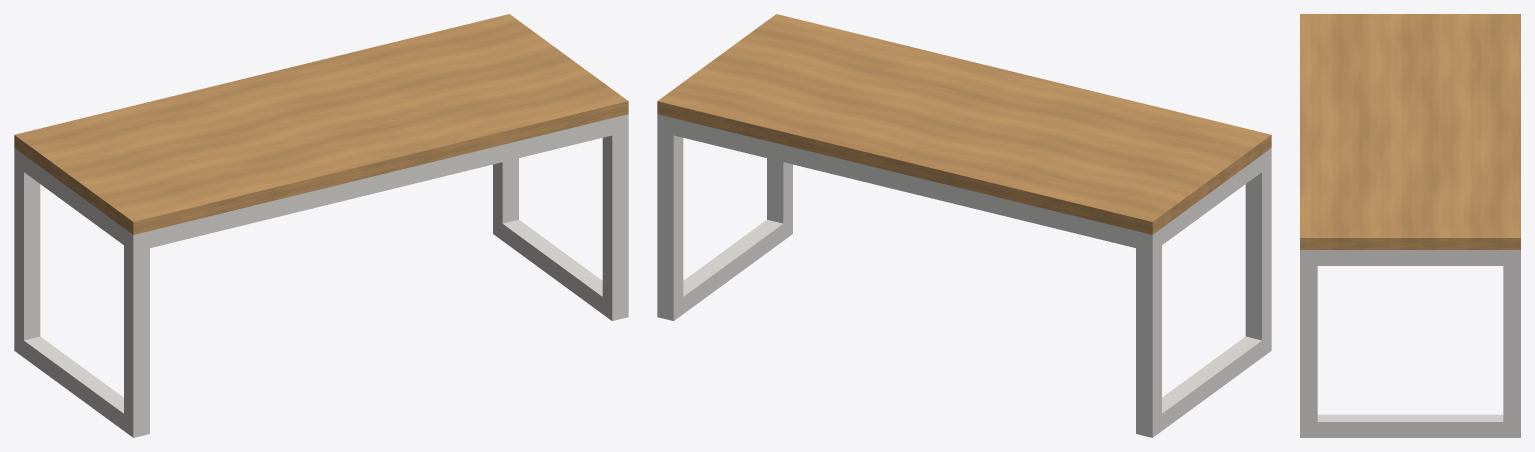
File: mesa-living-nord-miel-blanco-4cm.glb
3 views of the same model, side by side, from view 1: azimuth 30°, elevation 25°; view 2: azimuth 150°, elevation 25°; view 3: azimuth 270°, elevation 25° (orthographic). The views are drawn at different scales.
Visible parts, largest first — view 1: Tapa de madera maciza 120 x 50 cm, Pata recta de hierro 4 x 4 cm (×4), Larguero longitudinal superior recto, Travesaño inferior recto (×2), Travesaño superior recto; view 2: Tapa de madera maciza 120 x 50 cm, Pata recta de hierro 4 x 4 cm (×4), Larguero longitudinal superior recto, Travesaño inferior recto (×2), Travesaño superior recto; view 3: Tapa de madera maciza 120 x 50 cm, Pata recta de hierro 4 x 4 cm (×2), Travesaño inferior recto, Travesaño superior recto.
Boxes of the visible parts, box(x1,y1,x2,y2) form: Tapa de madera maciza 120 x 50 cm: box(14, 14, 628, 234); Pata recta de hierro 4 x 4 cm (×4): box(14, 114, 628, 437); Larguero longitudinal superior recto: box(150, 118, 612, 247); Travesaño inferior recto (×2): box(19, 219, 602, 430); Travesaño superior recto: box(19, 153, 128, 247); Tapa de madera maciza 120 x 50 cm: box(657, 14, 1271, 234); Pata recta de hierro 4 x 4 cm (×4): box(657, 114, 1271, 437); Larguero longitudinal superior recto: box(673, 118, 1135, 247); Travesaño inferior recto (×2): box(679, 219, 1266, 430); Travesaño superior recto: box(1162, 154, 1266, 244); Tapa de madera maciza 120 x 50 cm: box(1300, 14, 1520, 249); Pata recta de hierro 4 x 4 cm (×2): box(1300, 250, 1520, 437); Travesaño inferior recto: box(1309, 414, 1511, 437); Travesaño superior recto: box(1309, 250, 1511, 265).
Bounding box in the file's own units: 1.2 × 0.5 × 0.5.
2 materials, 1 textured.
